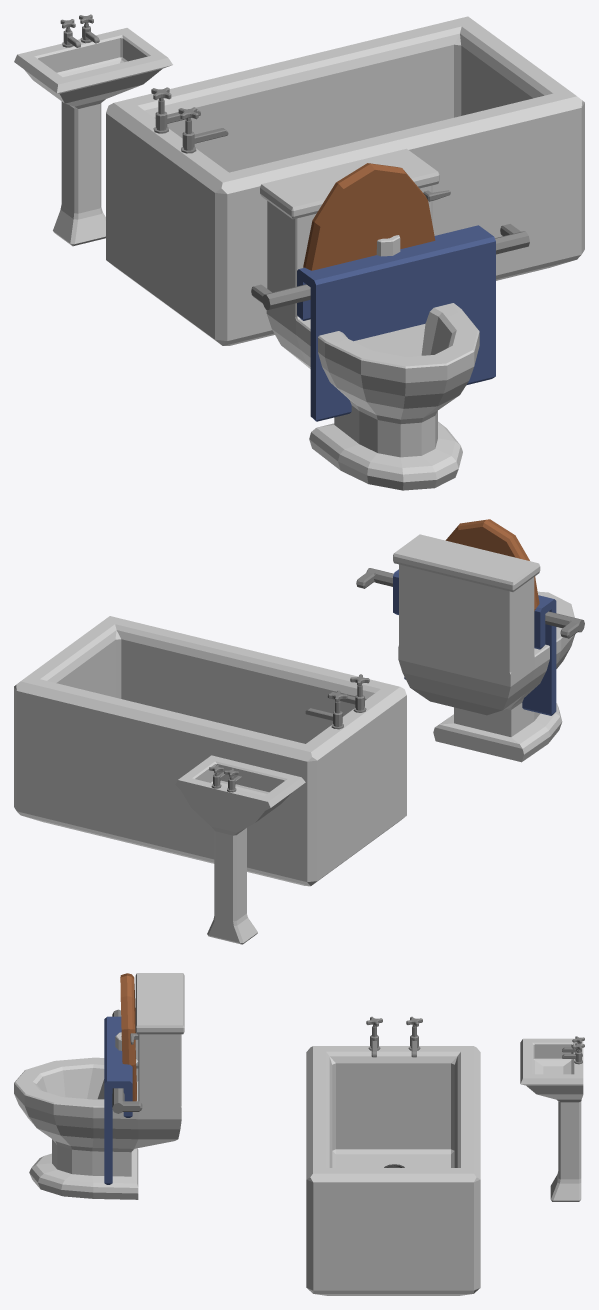
Rendered from Bath_furniture.gltf.
The picture shows the model from 3 angles, top to bottom: view 1: azimuth 30°, elevation 25°; view 2: azimuth 150°, elevation 25°; view 3: azimuth 270°, elevation 25°; orthographic projection. The views are drawn at different scales.
Visible parts, largest first — view 1: Bath, Toilet, Towel holder, Sink; view 2: Bath, Toilet, Sink, Towel holder; view 3: Bath, Toilet, Sink, Towel holder.
Part boxes in pixels (left/top/right/bottom): Bath: left=106, top=16, right=584, bottom=345; Toilet: left=260, top=148, right=479, bottom=490; Towel holder: left=251, top=224, right=529, bottom=421; Sink: left=14, top=14, right=172, bottom=246; Bath: left=14, top=616, right=406, bottom=886; Toilet: left=393, top=519, right=575, bottom=762; Sink: left=175, top=755, right=305, bottom=944; Towel holder: left=356, top=568, right=584, bottom=715; Bath: left=306, top=1016, right=480, bottom=1295; Toilet: left=14, top=973, right=184, bottom=1199; Sink: left=520, top=1036, right=584, bottom=1201; Towel holder: left=104, top=1009, right=142, bottom=1184.
Size of the model in its own units: 8.6 by 5.31 by 12.8.
